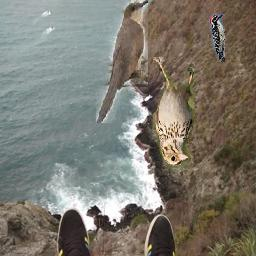Cuckoo: (96, 1, 148, 124)
Sparrow: (154, 58, 195, 169)
Woodpecker: (209, 14, 225, 62)
